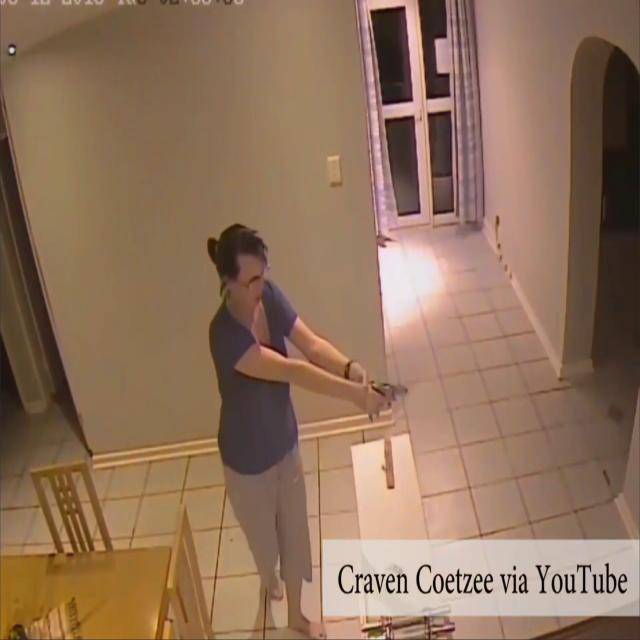Gun: (357, 368, 415, 419)
